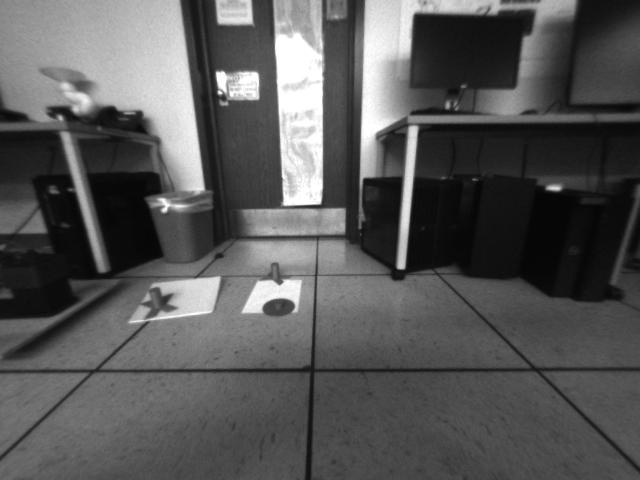X: (137, 286, 178, 319), (254, 261, 293, 288)
